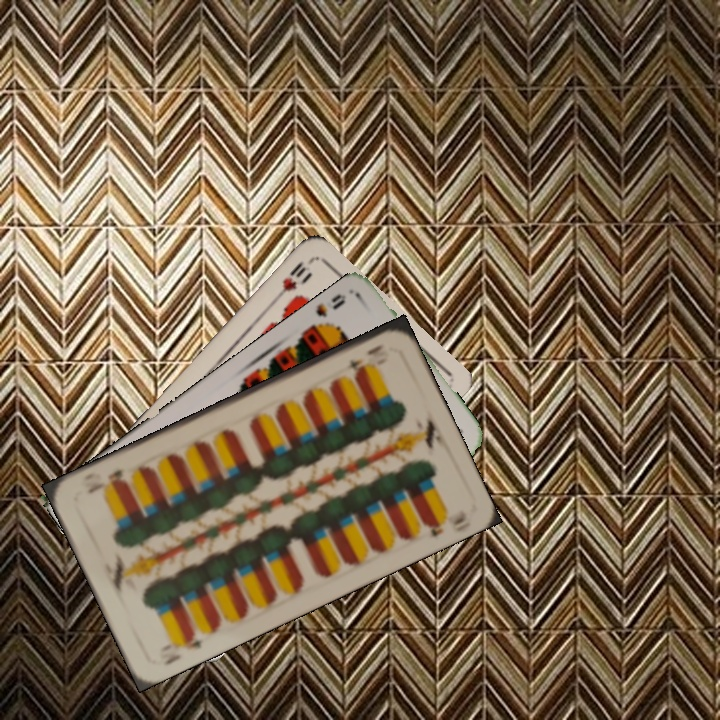E10: (158, 627, 206, 668), (336, 339, 387, 377)
H10: (270, 256, 315, 304)
S9: (305, 290, 349, 336)
